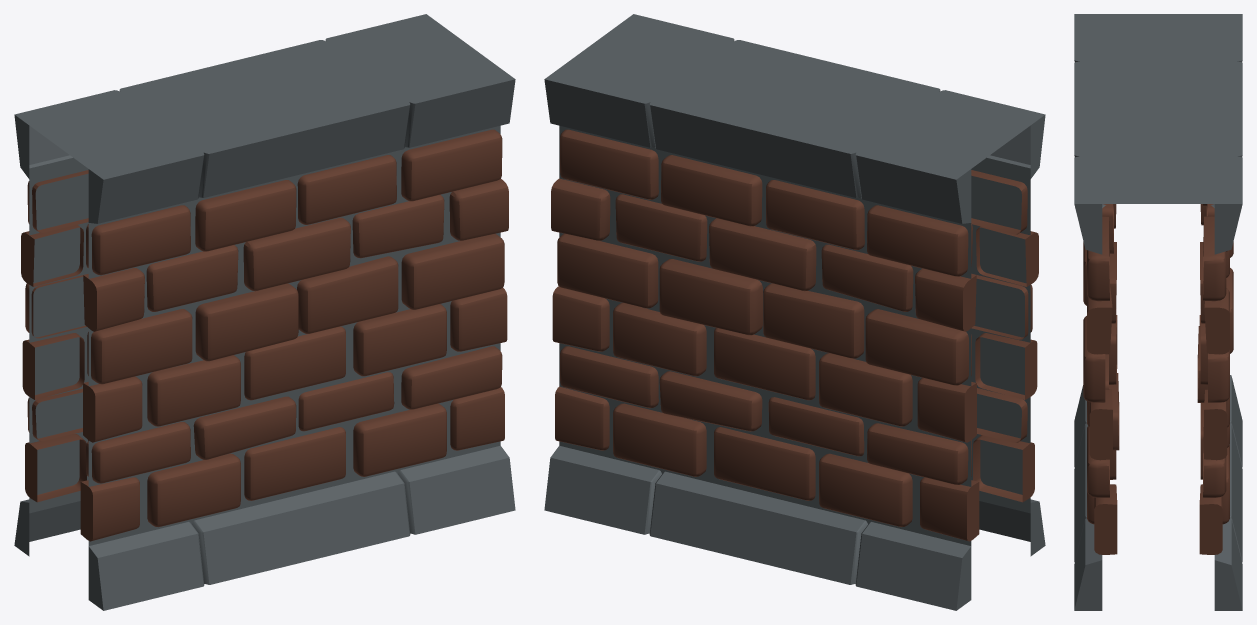
Rendered from wallOptOrange.fbx.
The picture shows the model from 3 angles, left to right: view 1: azimuth 30°, elevation 25°; view 2: azimuth 150°, elevation 25°; view 3: azimuth 270°, elevation 25°; orthographic projection. The views are drawn at different scales.
Parts seen in each view (by area): view 1: wall.002; view 2: wall.002; view 3: wall.002.
Part boxes in pixels (x1=…): wall.002: x1=14, y1=14, x2=515, y2=610; wall.002: x1=544, y1=14, x2=1045, y2=610; wall.002: x1=1074, y1=14, x2=1242, y2=610.
Bounding box in the file's own units: 400 × 400 × 150.
